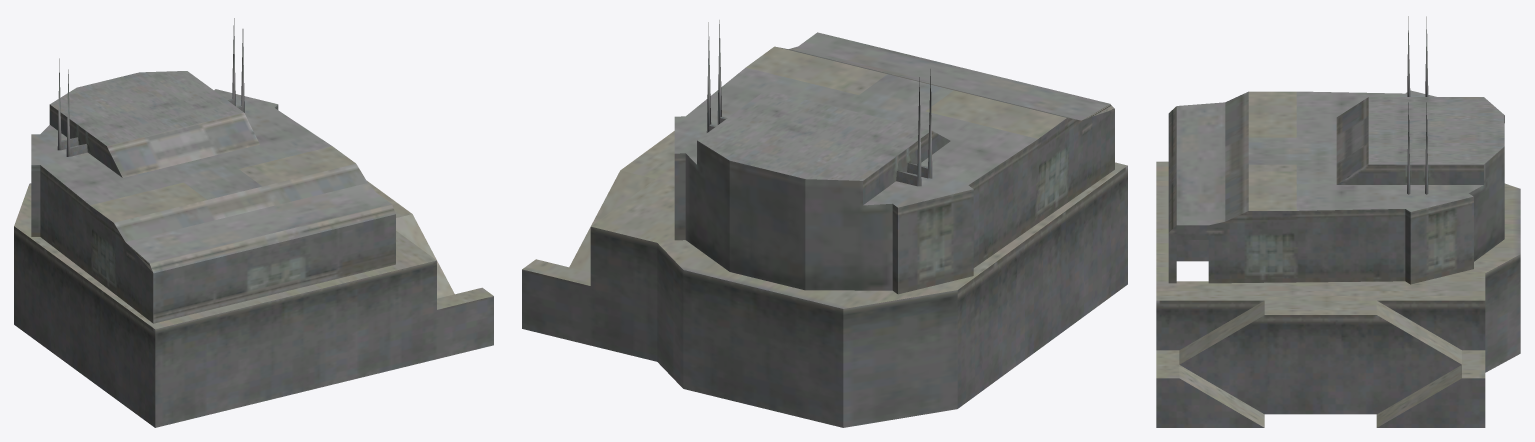
File: ply_corl_hospital_s01_r0_exterior_mesh_l2.fbx
3 views of the same model, side by side, from view 1: azimuth 30°, elevation 25°; view 2: azimuth 150°, elevation 25°; view 3: azimuth 270°, elevation 25° (orthographic). The views are drawn at different scales.
Visible parts, largest first — view 1: mesh_node; view 2: mesh_node; view 3: mesh_node.
Boxes of the visible parts, x1,y1,x2,y2 form: mesh_node: (14,18,493,427); mesh_node: (522,20,1127,427); mesh_node: (1156,16,1520,427).
Bounding box in the file's own units: 24.65 × 18.35 × 22.78.
1 material, 1 textured.
